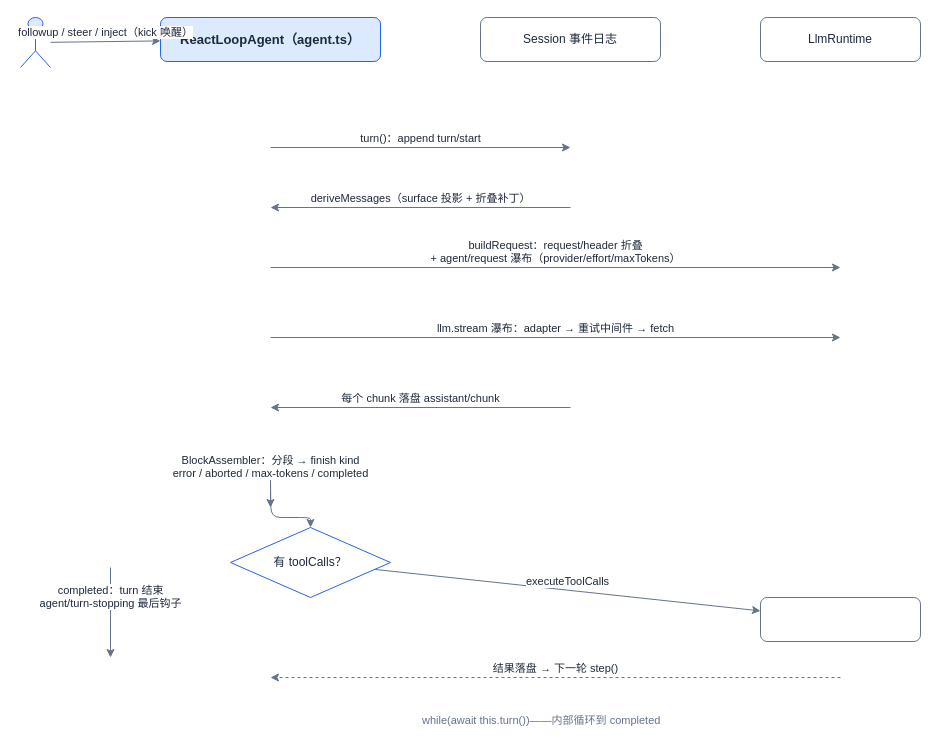
This 939x755 diagram has some shape labels left out. The box of each missing label's shape, as (x1, y1, x2, y2) in pixels:
ToolRuntime: (760, 596, 920, 642)
用户 / 调度器: (20, 16, 50, 68)
